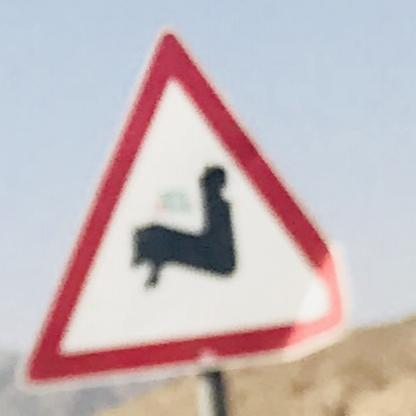Zigzag Road Ahead: (12, 26, 356, 394)
